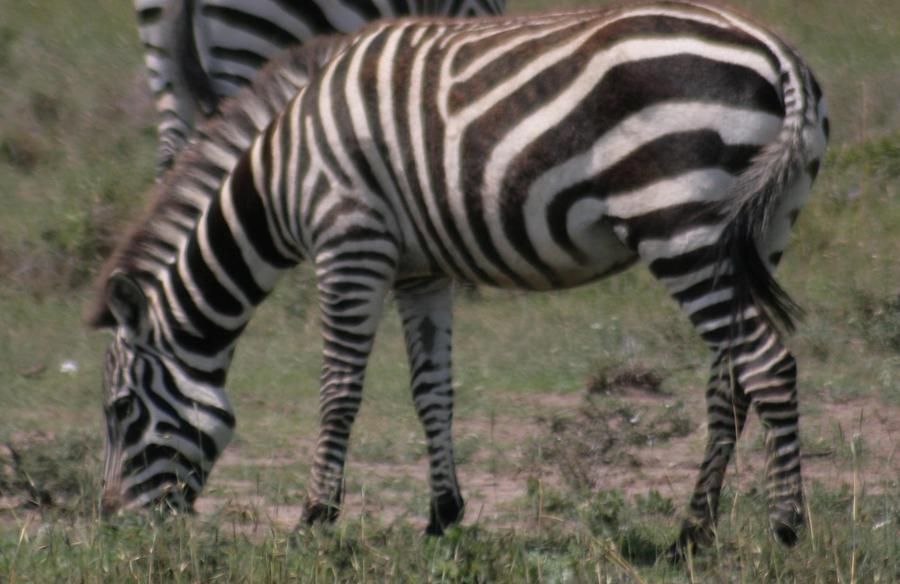zebra_plains: (278, 15, 755, 309)
